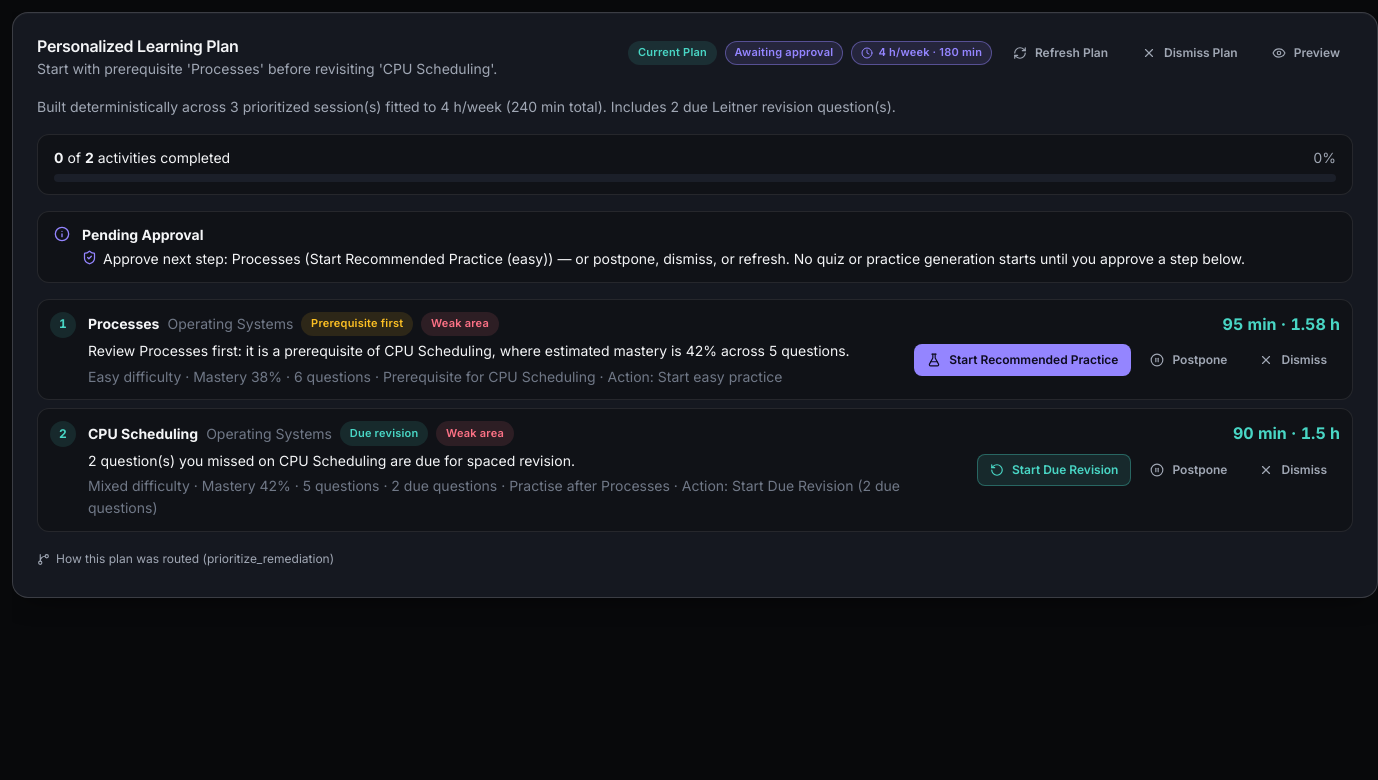
LearningPlan Stage 2 persistent HITL workflow › guards against duplicate approval clicks and navigates safely after backend approval
Click the button "Start Recommended Practice" at (1023, 360), box 914,344 -> 1132,376
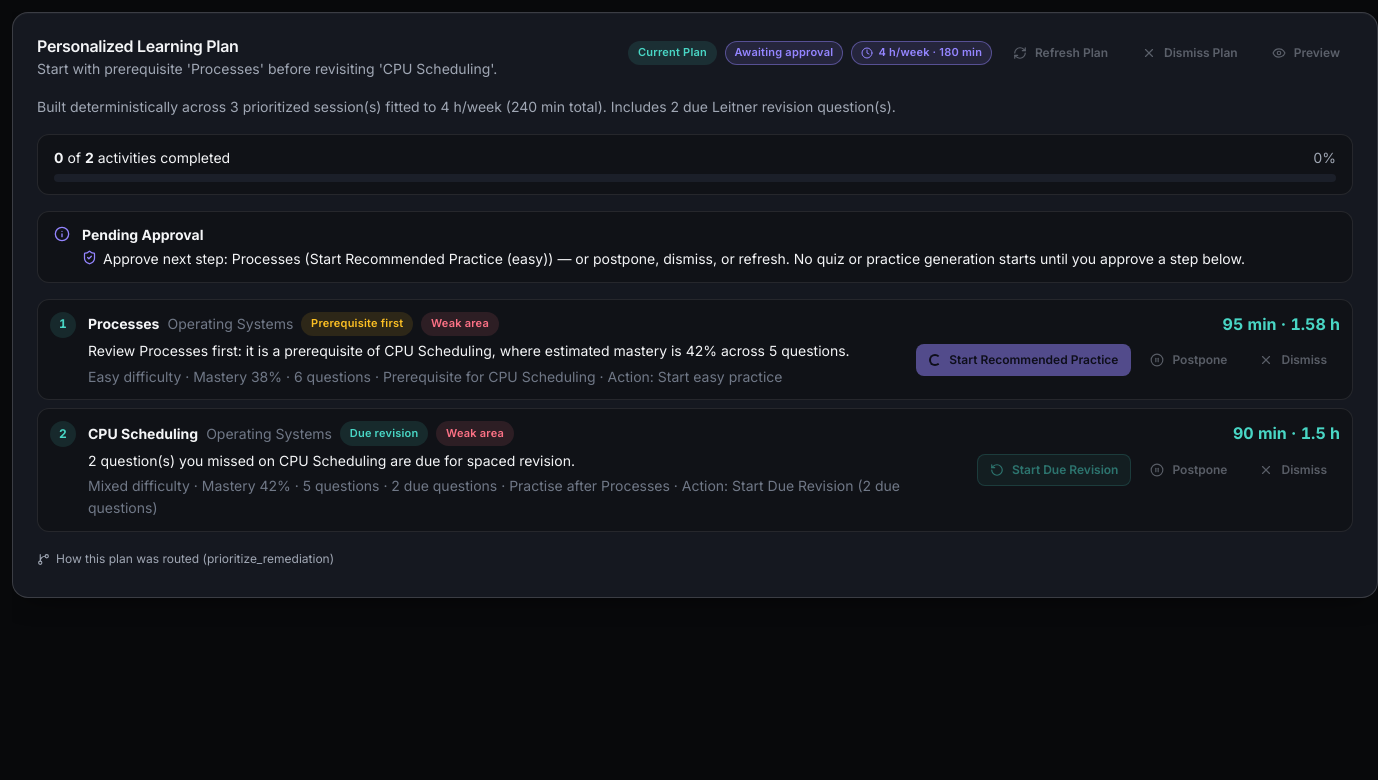
Click the button "Start Recommended Practice" at (1024, 360), box 916,344 -> 1132,376
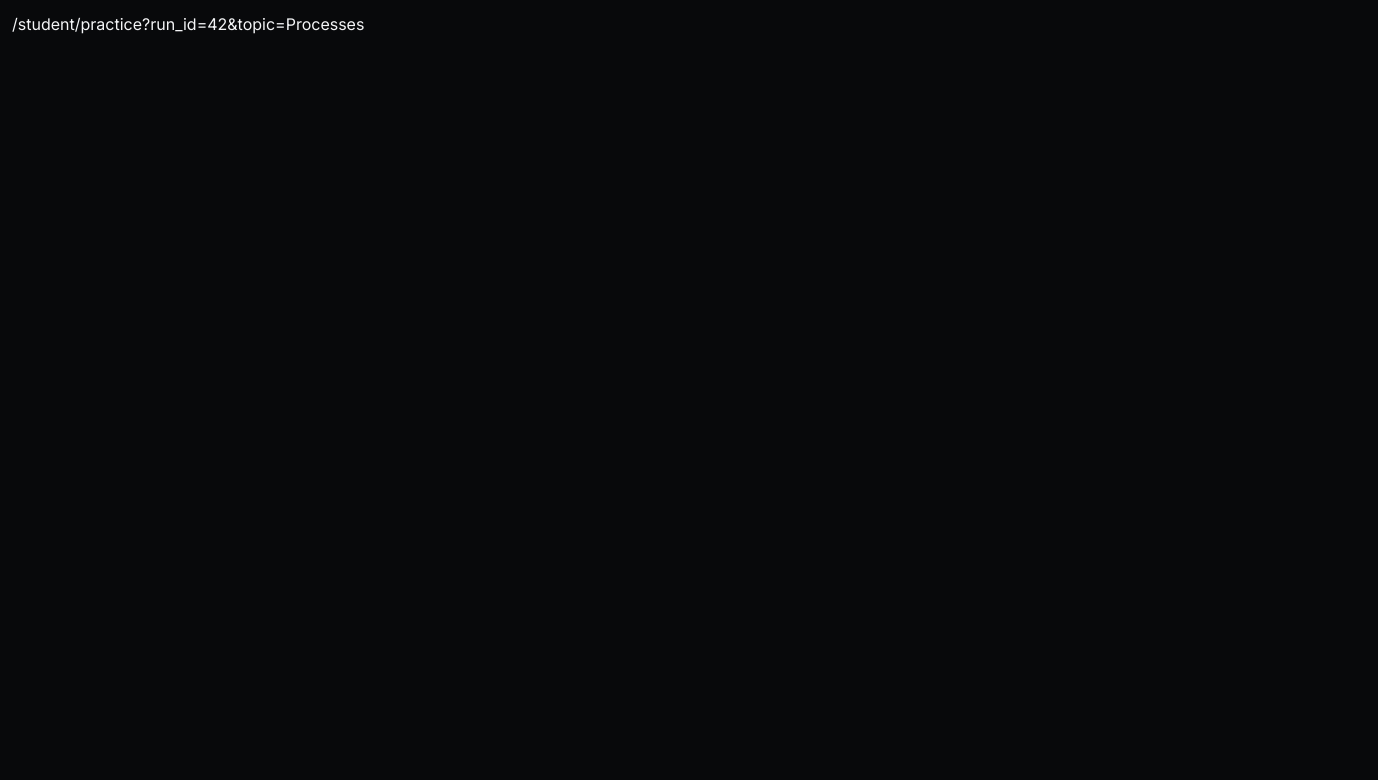
Check: the text with test id "loc" reads "/student/practice?run_id=42&topic=Processes", box 12,14 -> 364,34
